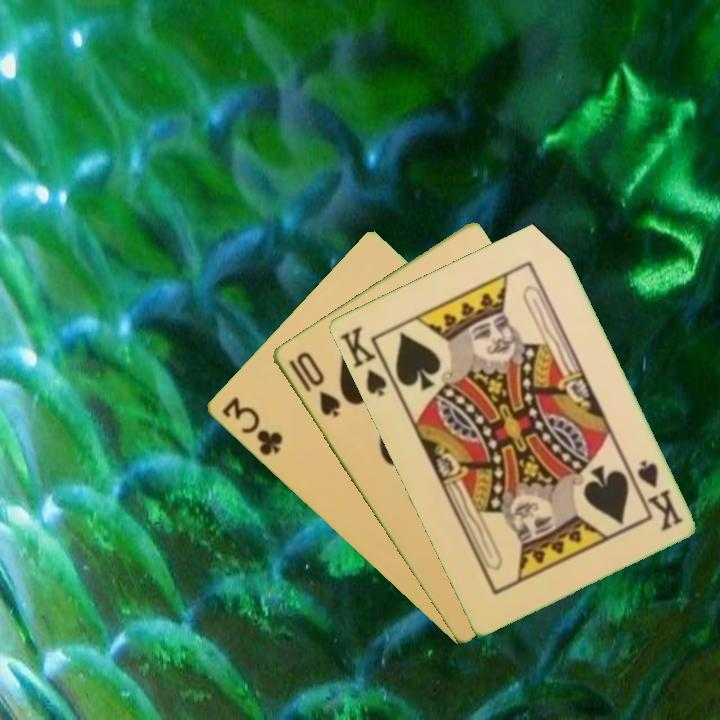10s: (285, 347, 343, 420)
3c: (217, 393, 285, 459)
Ks: (335, 322, 389, 399), (633, 456, 686, 534)
